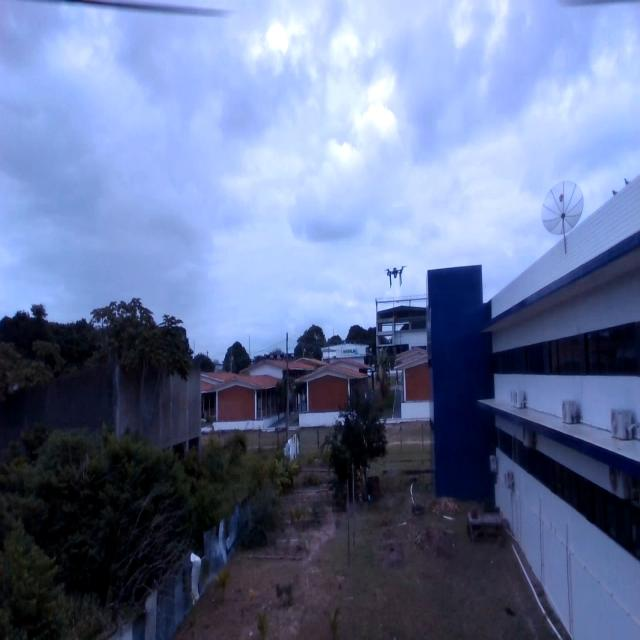-uav-: (381, 259, 414, 295)
